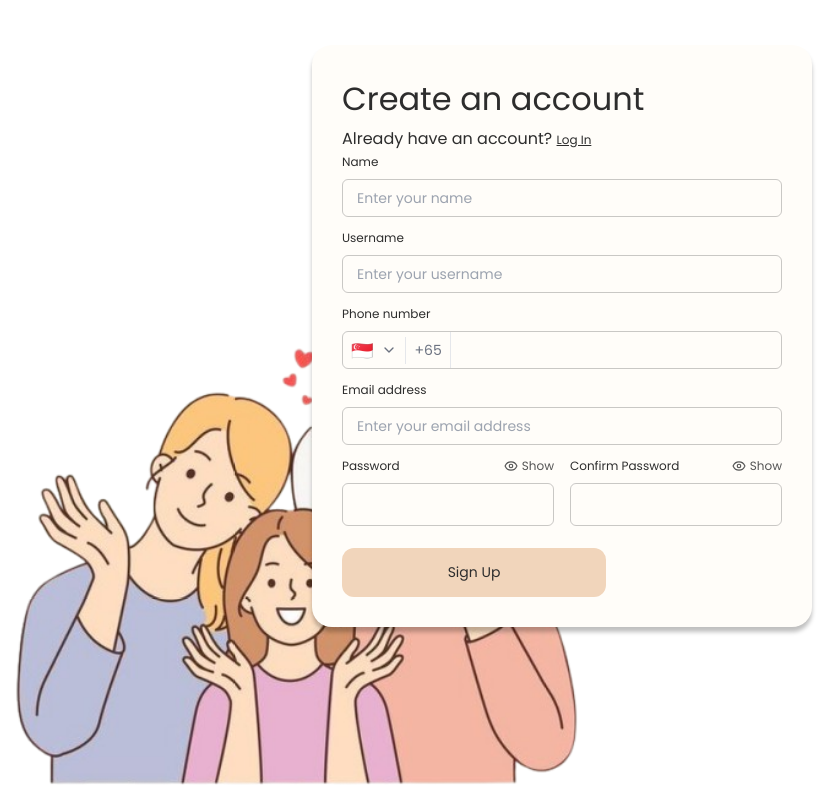
Test: SignUpCard component › shows error when passwords do not match
Type "John Doe" into the field with placeholder "Enter your name".
click(562, 198); type("John Doe")  # box [342, 179, 782, 217]
Type "johndoe" into the field with placeholder "Enter your username".
click(562, 274); type("johndoe")  # box [342, 255, 782, 293]
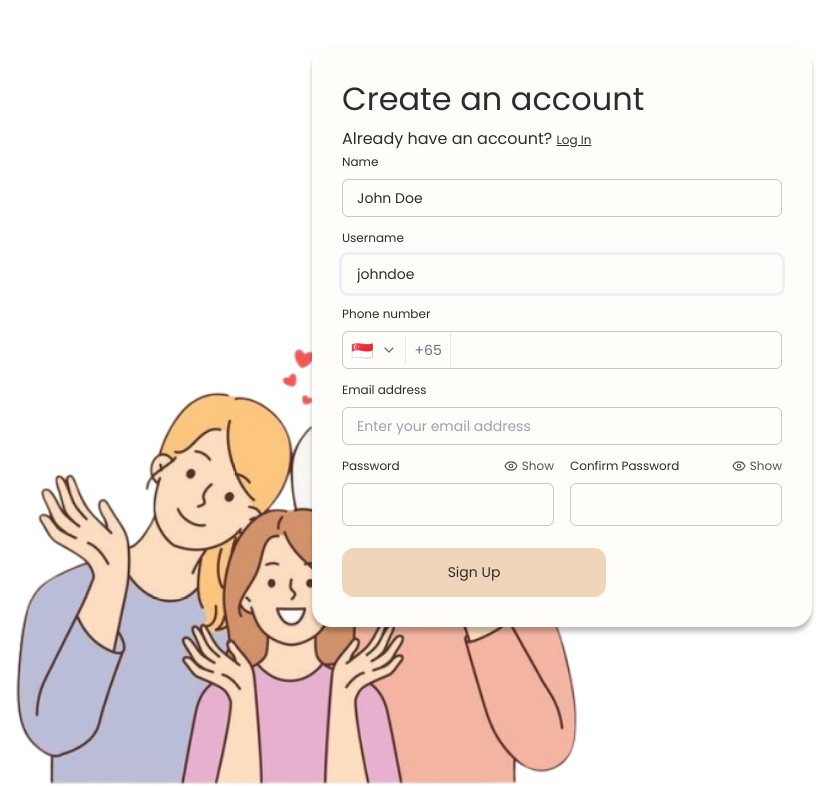
Type "john@example.com" into the field with placeholder "Enter your email address".
click(562, 426); type("john@example.com")  # box [342, 407, 782, 445]
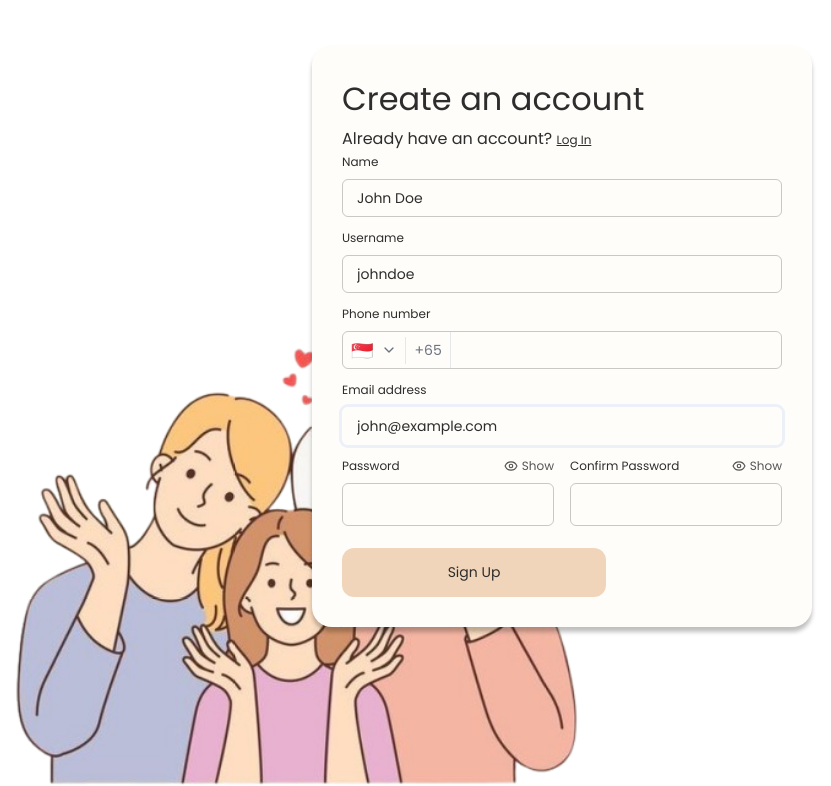
Type "12345678" into the field next to "+65".
click(616, 350); type("12345678")  # box [451, 331, 781, 369]
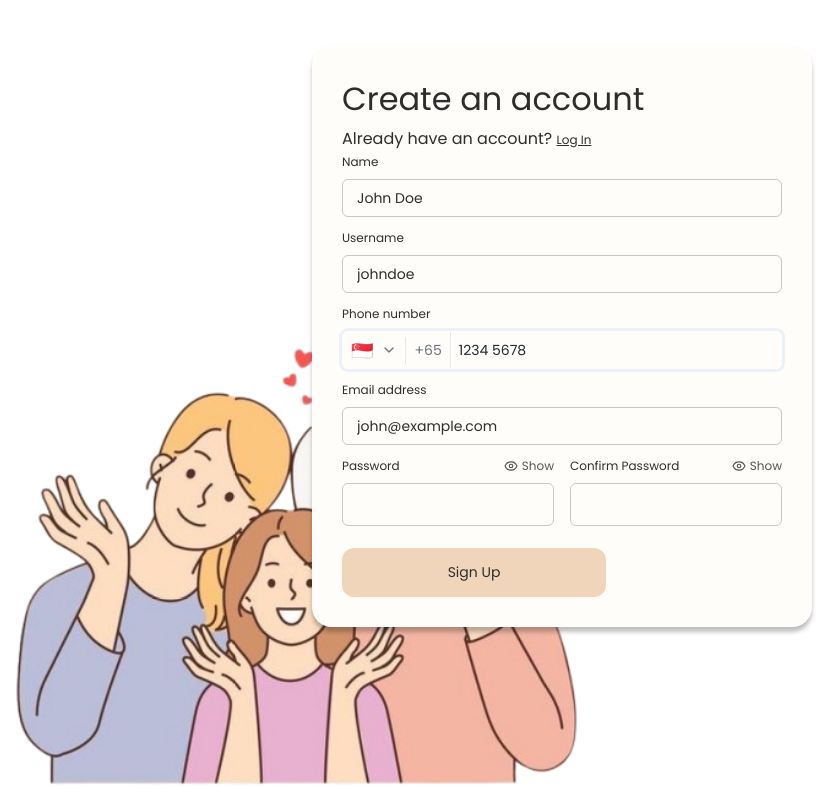
Type "password123" into the 1st password field.
click(448, 504); type("password123")  # box [342, 483, 554, 526]
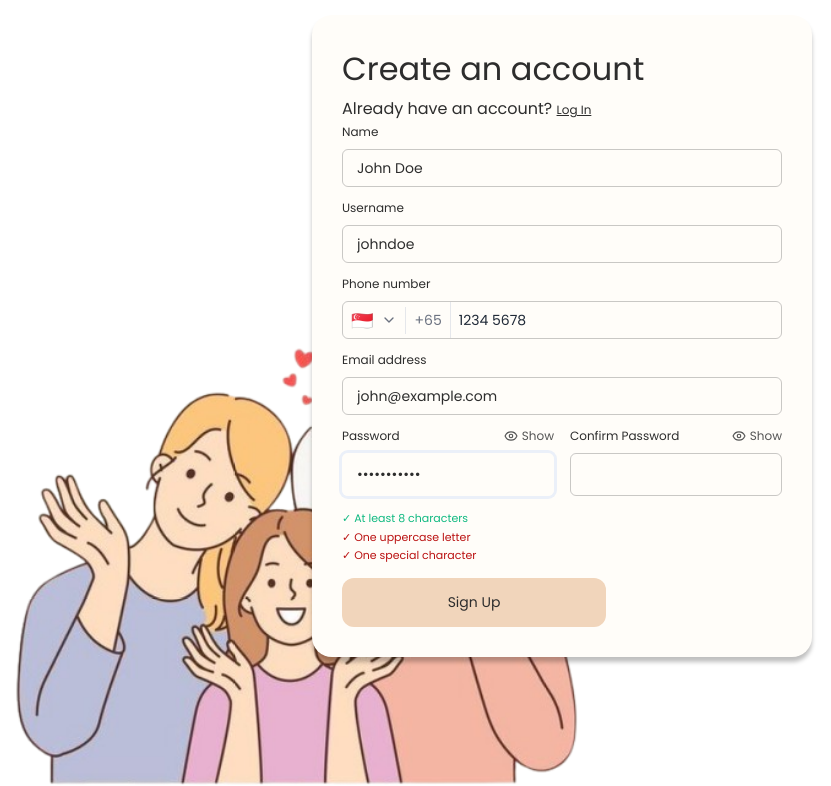
Type "differentpassword" into the password field below "Confirm Password".
click(676, 475); type("differentpassword")  # box [570, 453, 782, 496]
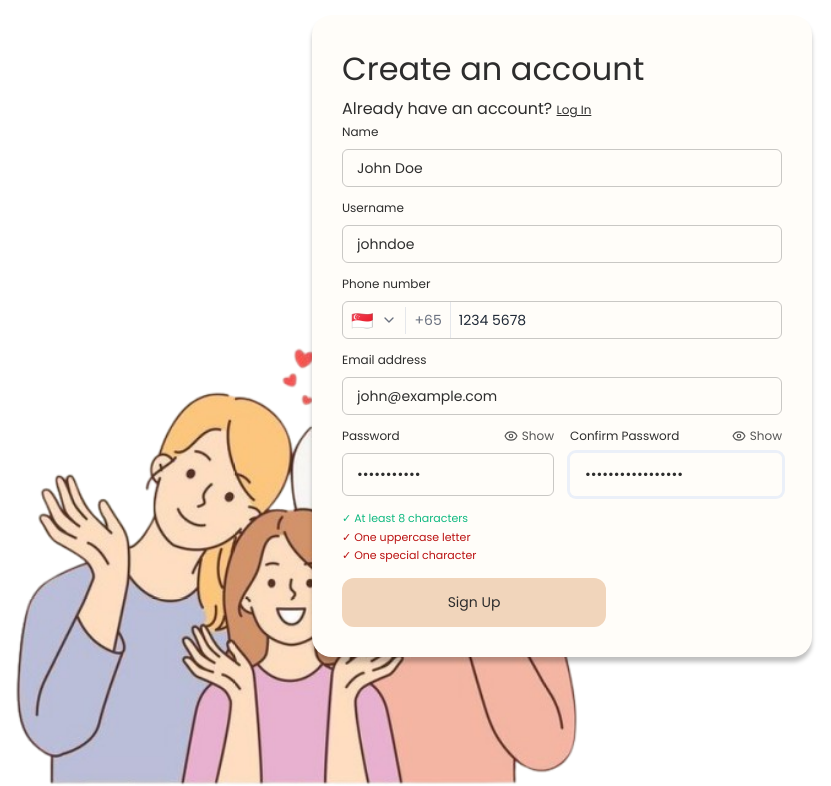
Click the button "Sign Up".
click(474, 602)  # box [342, 578, 606, 627]
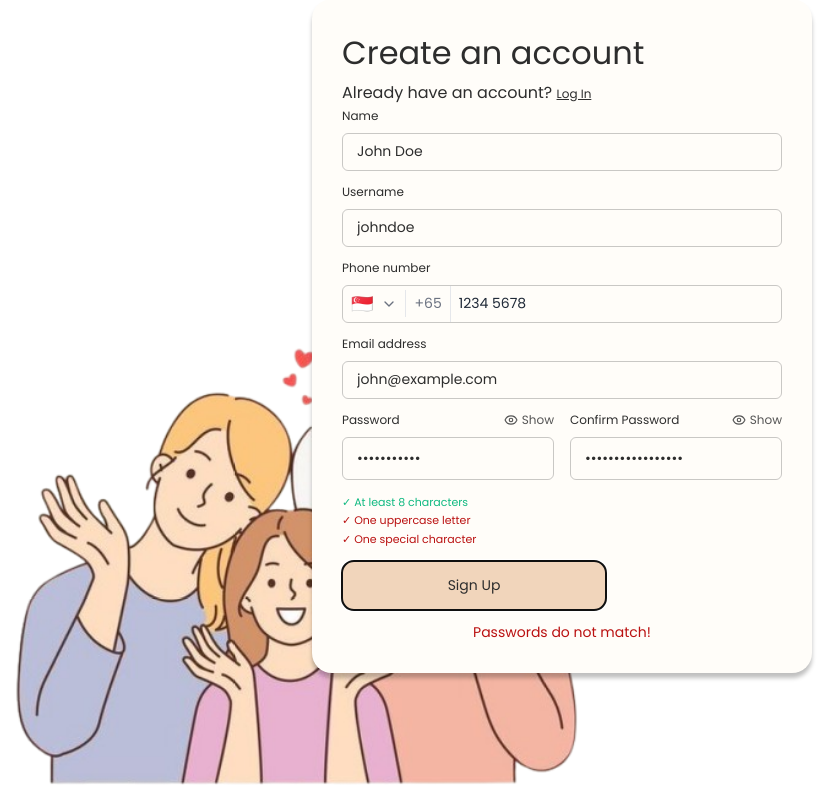
Expected: the text "Passwords do not match!" is shown, [473, 622, 651, 642]
